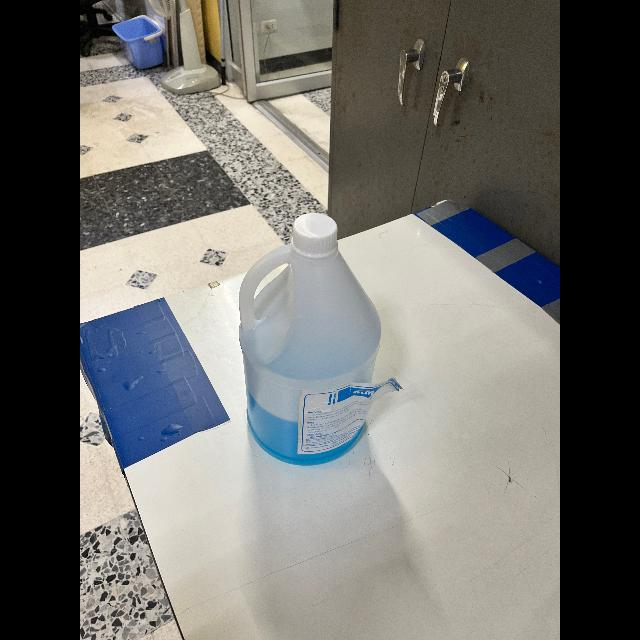chemical_plastic_gallon: (233, 204, 385, 466)
